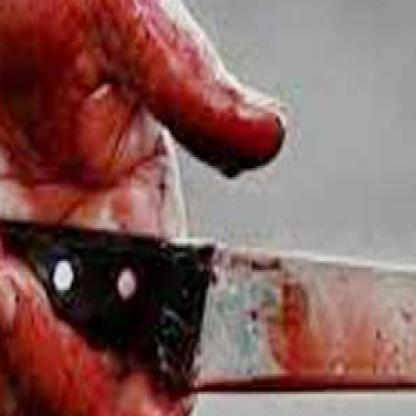knife: (0, 49, 415, 414)
